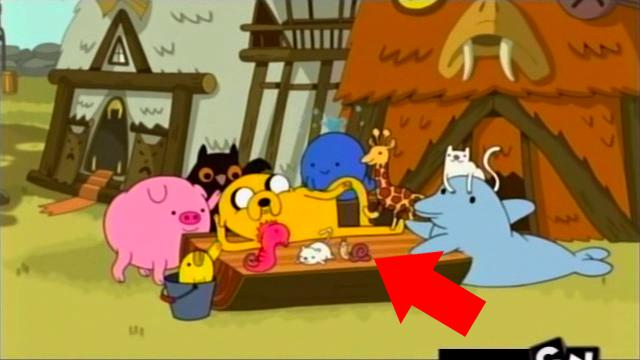snail: (337, 237, 372, 263)
